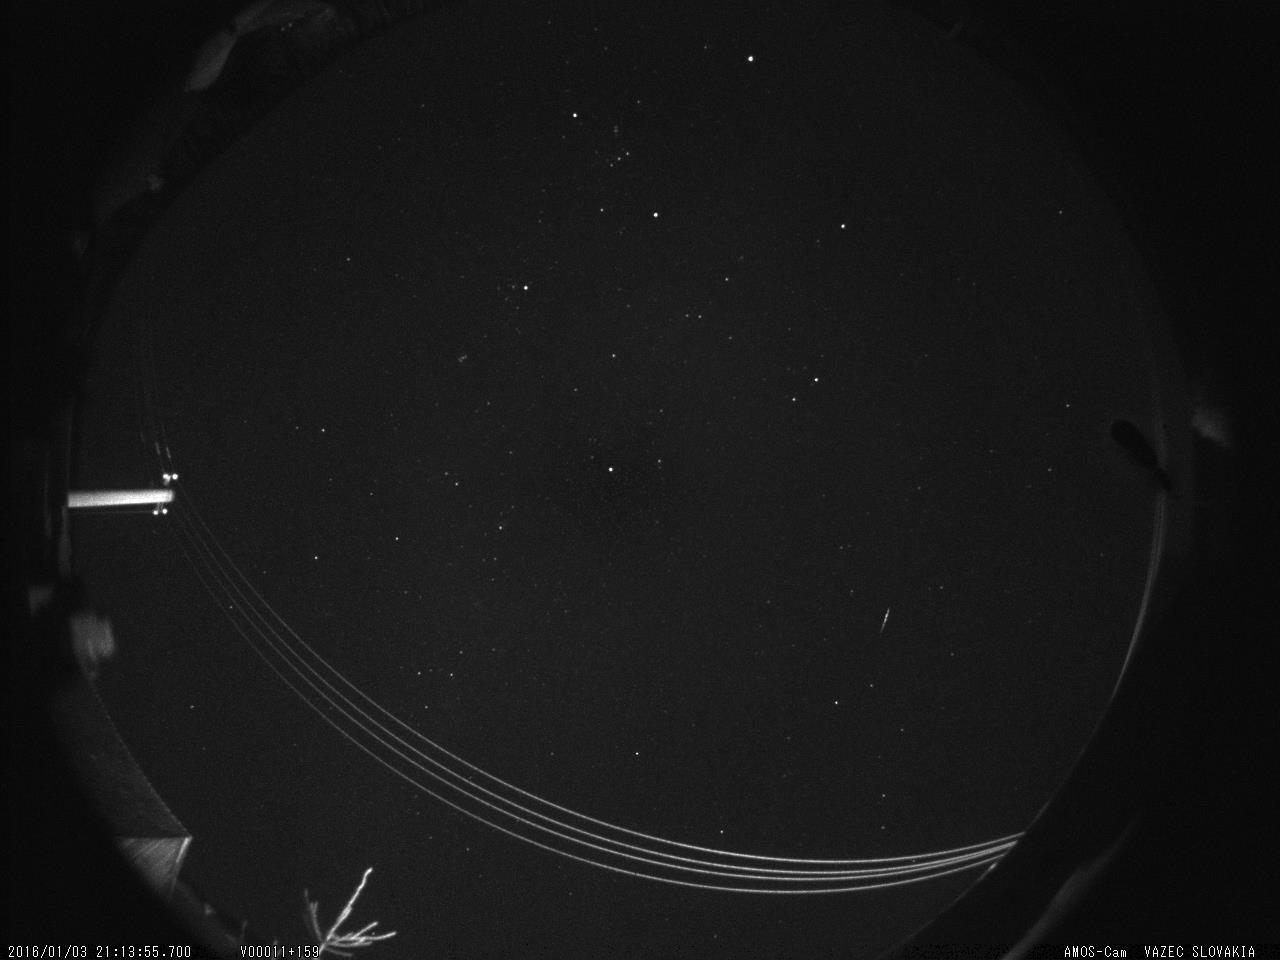Meteor: (866, 599, 904, 650)
